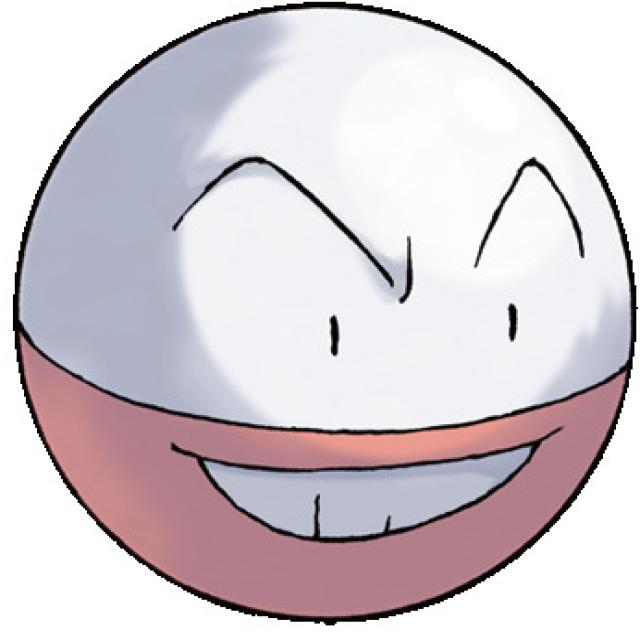Electrode: (9, 10, 638, 627)
